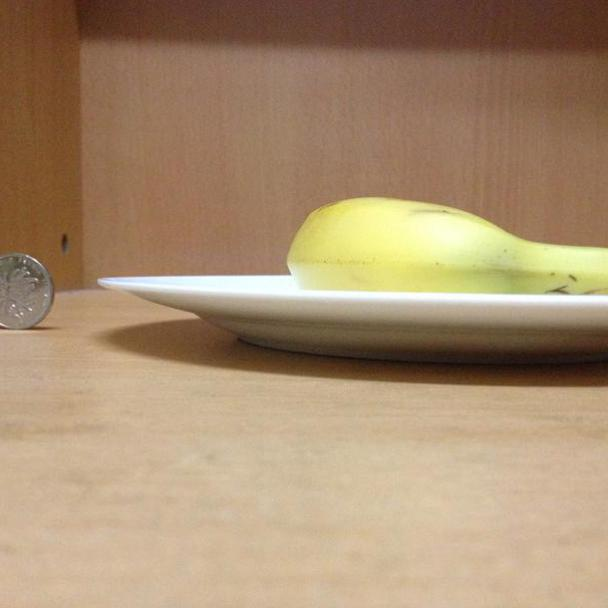banana: (282, 197, 608, 295)
